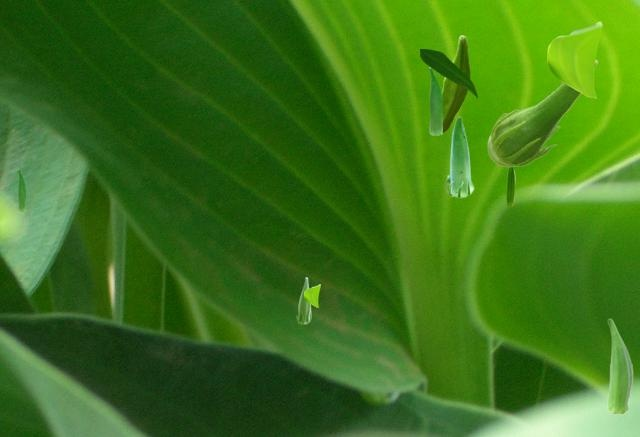okra: (487, 59, 597, 166), (442, 35, 469, 133), (607, 318, 632, 412), (445, 116, 473, 197), (429, 67, 441, 134), (296, 277, 310, 323), (506, 167, 514, 204), (18, 169, 24, 210)
